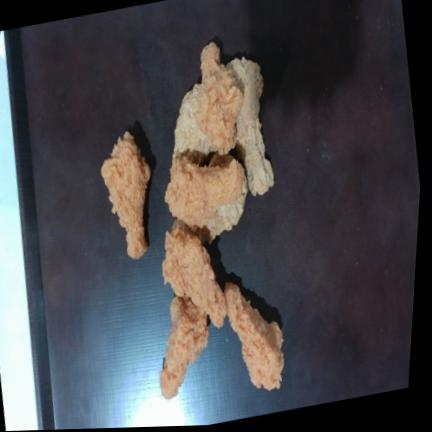chicken: (162, 225, 226, 328), (226, 57, 274, 194), (224, 283, 284, 390), (101, 131, 150, 259), (165, 154, 245, 227), (195, 42, 243, 153), (160, 298, 208, 398)
